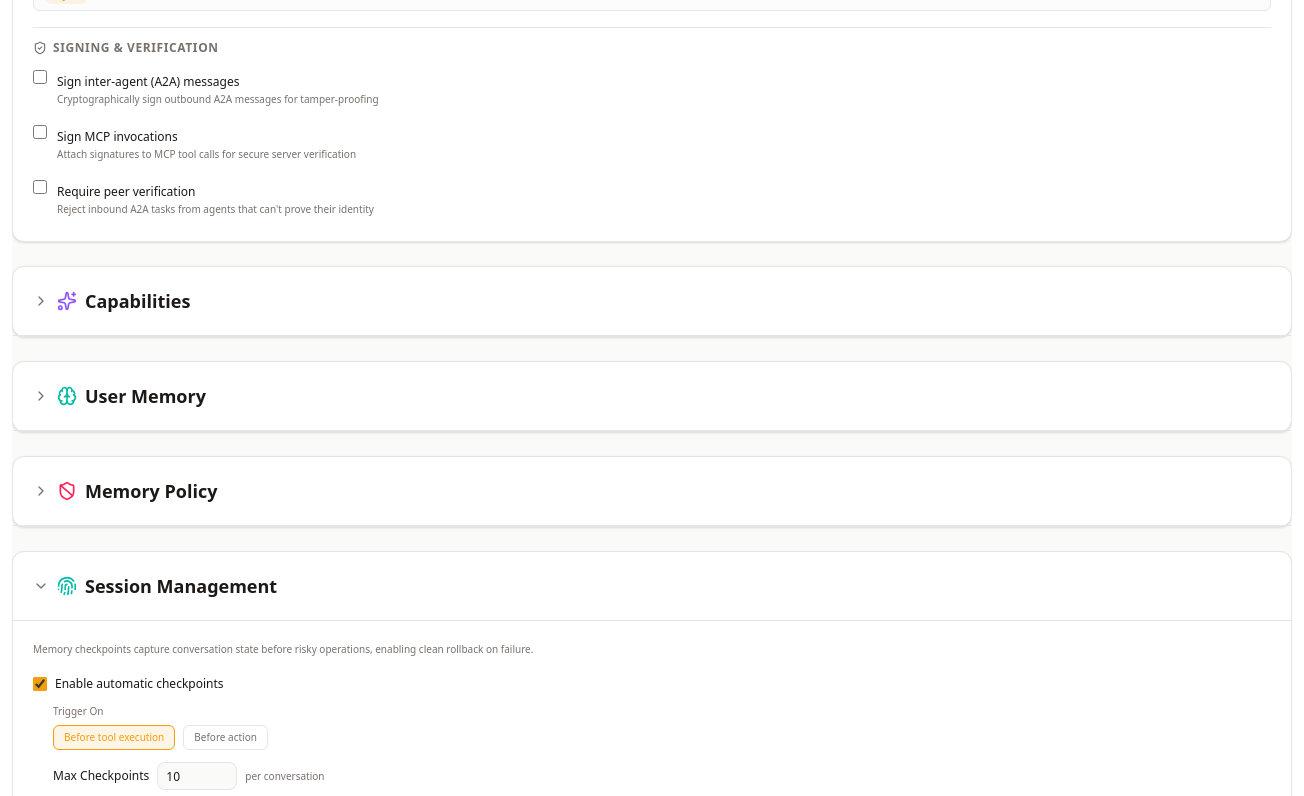
Test case: Agent Detail — Config Sections (Phase 15.4) › renders user memory section content when expanded
(page scrolled)
Check: the heading "User Memory" is shown, box [85,382,206,410]
Click the button "User Memory" at coordinates (145, 396), box [13,362,1291,431]
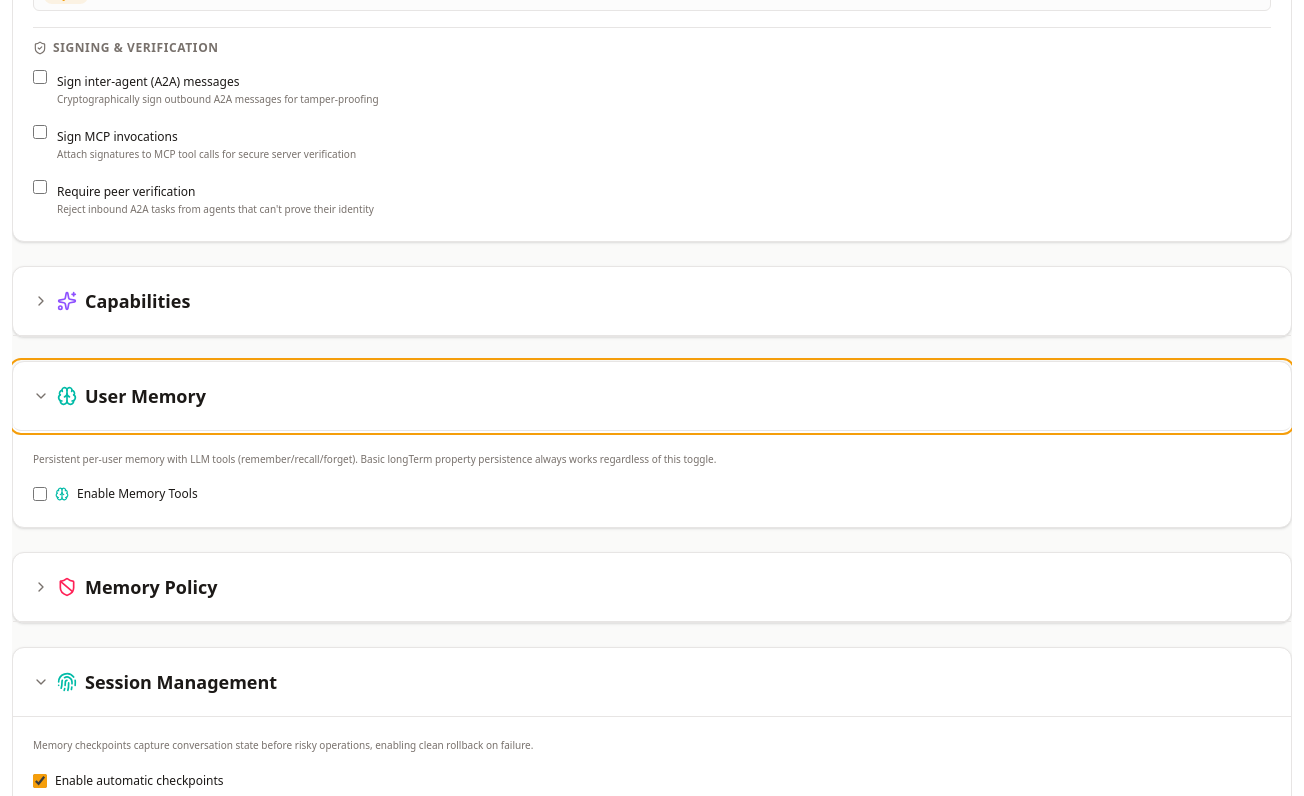
Check: the element with test id "user-memory-section" is shown, box [33,452,716,502]
Check: the text "Enable Memory Tools" is shown, box [33,486,198,502]
